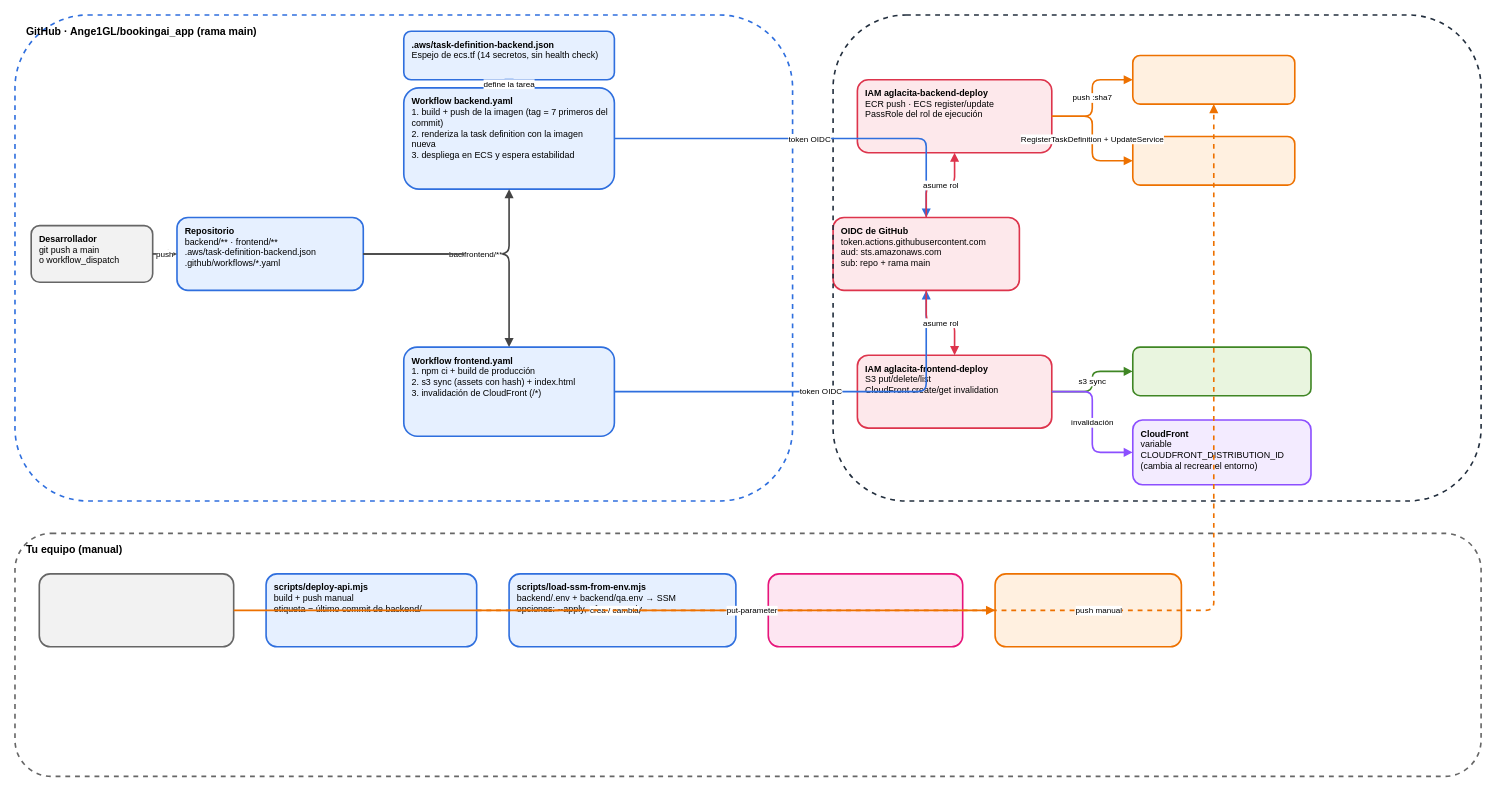
Some shapes in this 1495 by 791 pixel diagram are drawn without their labels. Each missing label, with the box of its shape:
AWS (cuenta del QA): (832, 14, 1481, 501)
ECR aglacita-tf-qa-api push de la imagen: (1132, 54, 1295, 104)
ECS aglacita-tf-qa-api nueva revisión + UpdateService: (1132, 135, 1295, 185)
Infraestructura QA ver página "Infraestructura QA": (994, 573, 1182, 647)
S3 aglacita-tf-qa-front-<cuenta> build de Angular: (1132, 346, 1311, 396)
SSM /aglacita-tf/qa/* secretos y configuración de la API: (767, 573, 963, 647)
Terraform (estado local) usuario IAM angel plan / apply en envs/qa: (38, 573, 234, 647)
